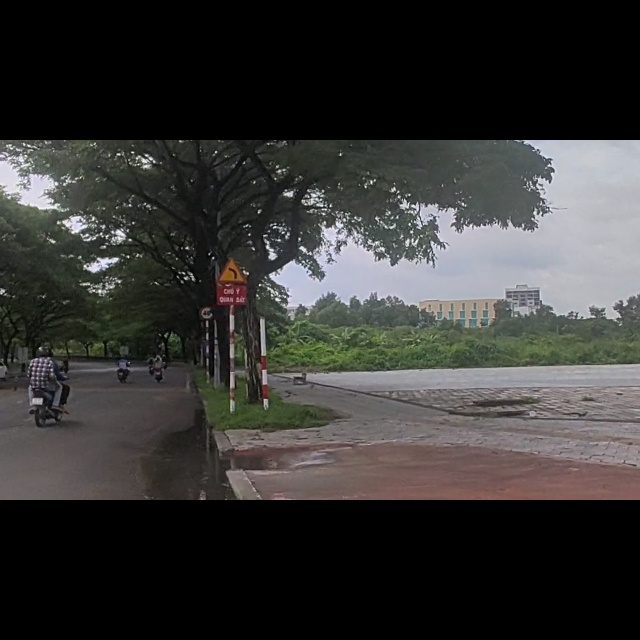bien_nguy_hiem: (214, 209, 251, 254), (198, 290, 215, 320)
